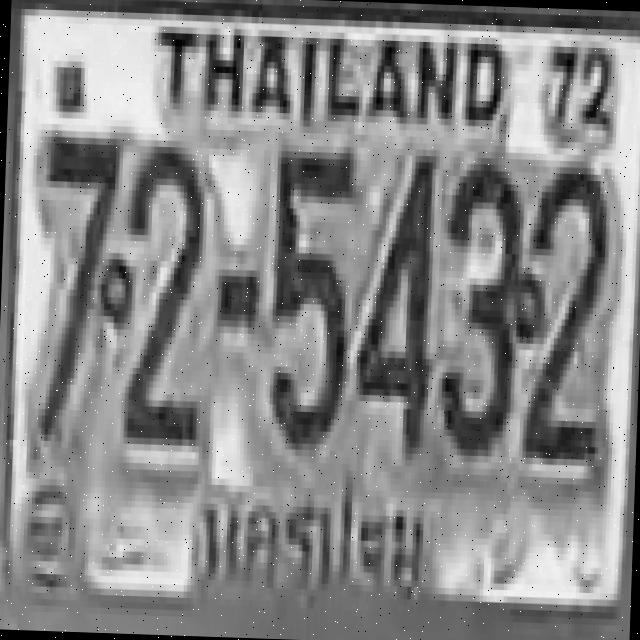2: (116, 136, 206, 449), (518, 160, 608, 472)
3: (438, 153, 530, 454)
4: (355, 144, 435, 450)
5: (264, 143, 357, 444)
7: (25, 123, 122, 443)
NakhonPathom: (180, 474, 433, 614)
